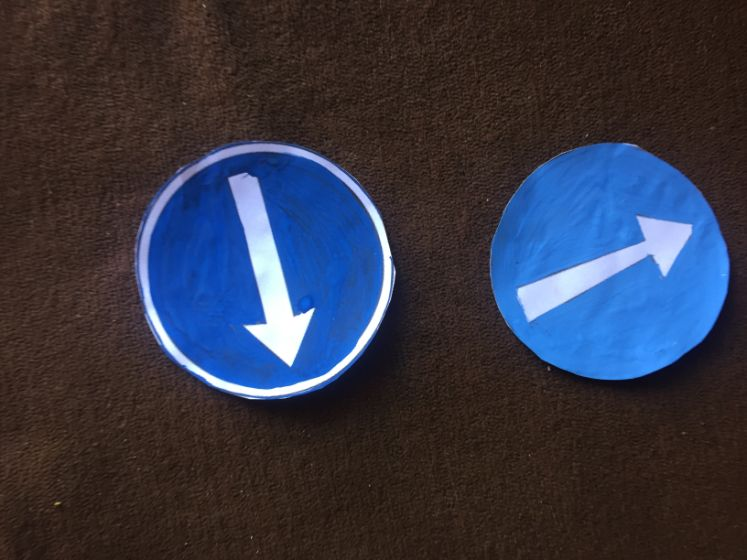go-stright: (137, 142, 387, 398)
keep-left: (487, 145, 726, 382)
